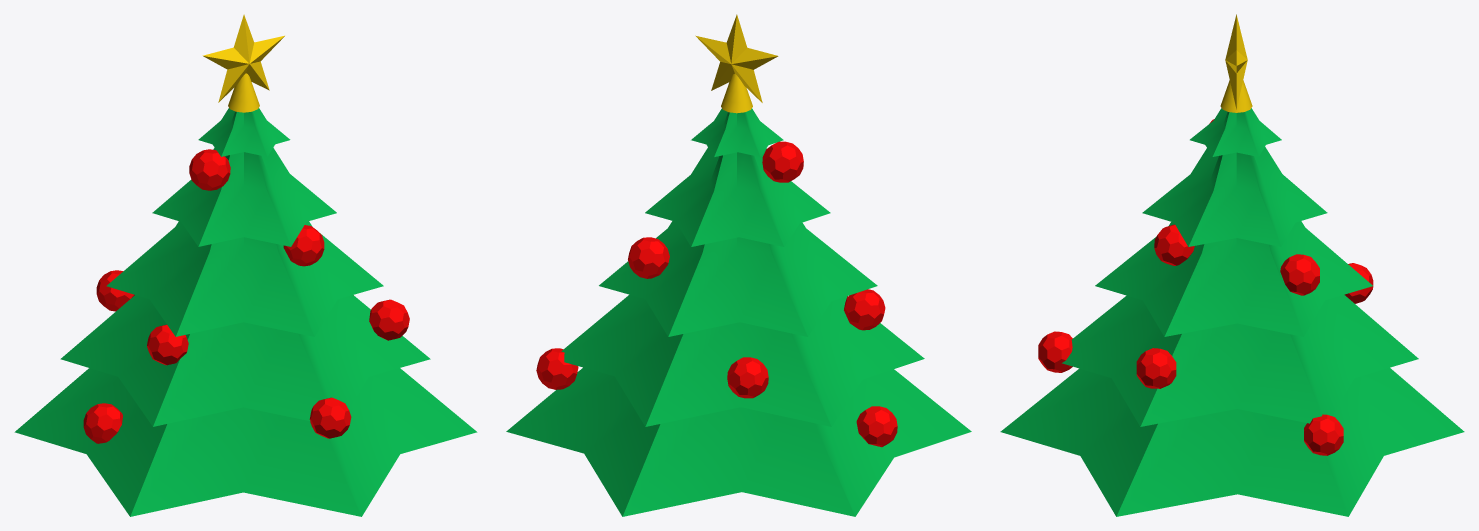
File: tree-bauble.gltf
3 renders of one model, left to right at view 1: azimuth 30°, elevation 25°; view 2: azimuth 150°, elevation 25°; view 3: azimuth 270°, elevation 25°, orthographic.
Visible parts, largest first — view 1: Cone 0, Cone 1, Cone 2, Cone 3, Cone 4, Star, BAUBEL 2, BAUBEL 6, BAUBEL 8, BAUBEL 1, BAUBEL 9, BAUBEL 4 (+2 smaller); view 2: Cone 0, Cone 1, Cone 2, Cone 3, Cone 4, Star, BAUBEL 2, BAUBEL 3, BAUBEL 7, BAUBEL 9, BAUBEL 1, BAUBEL 5 (+1 smaller); view 3: Cone 0, Cone 1, Cone 2, Cone 3, Cone 4, BAUBEL 8, BAUBEL 5, BAUBEL 7, BAUBEL 6, Star, BAUBEL 4, cap.
Boxes of the visible parts, left/top/right/bottom form: Cone 0: left=14, top=368, right=477, bottom=516; Cone 1: left=60, top=295, right=430, bottom=426; Cone 2: left=106, top=221, right=383, bottom=336; Cone 3: left=152, top=147, right=336, bottom=246; Cone 4: left=198, top=108, right=290, bottom=156; Star: left=202, top=14, right=284, bottom=102; BAUBEL 2: left=189, top=149, right=230, bottom=190; BAUBEL 6: left=309, top=397, right=351, bottom=438; BAUBEL 8: left=369, top=299, right=409, bottom=340; BAUBEL 1: left=83, top=403, right=122, bottom=443; BAUBEL 9: left=147, top=324, right=188, bottom=365; BAUBEL 4: left=283, top=225, right=324, bottom=266; Cone 0: left=506, top=367, right=971, bottom=516; Cone 1: left=561, top=294, right=924, bottom=426; Cone 2: left=599, top=221, right=877, bottom=336; Cone 3: left=645, top=147, right=830, bottom=246; Cone 4: left=691, top=108, right=783, bottom=156; Star: left=695, top=14, right=778, bottom=102; BAUBEL 2: left=762, top=141, right=803, bottom=182; BAUBEL 3: left=727, top=357, right=768, bottom=398; BAUBEL 7: left=628, top=237, right=669, bottom=278; BAUBEL 9: left=844, top=289, right=885, bottom=330; BAUBEL 1: left=856, top=406, right=897, bottom=447; BAUBEL 5: left=536, top=348, right=578, bottom=389; Cone 0: left=1000, top=367, right=1464, bottom=516; Cone 1: left=1062, top=295, right=1418, bottom=426; Cone 2: left=1095, top=221, right=1372, bottom=336; Cone 3: left=1142, top=147, right=1327, bottom=246; Cone 4: left=1190, top=108, right=1281, bottom=156; BAUBEL 8: left=1136, top=348, right=1176, bottom=388; BAUBEL 5: left=1304, top=414, right=1343, bottom=455; BAUBEL 7: left=1280, top=254, right=1319, bottom=295; BAUBEL 6: left=1038, top=331, right=1072, bottom=372; Star: left=1225, top=14, right=1247, bottom=109; BAUBEL 4: left=1154, top=224, right=1194, bottom=265; cap: left=1220, top=80, right=1252, bottom=112.
Size of the model in its own units: 1.87 by 2.15 by 2.16.
